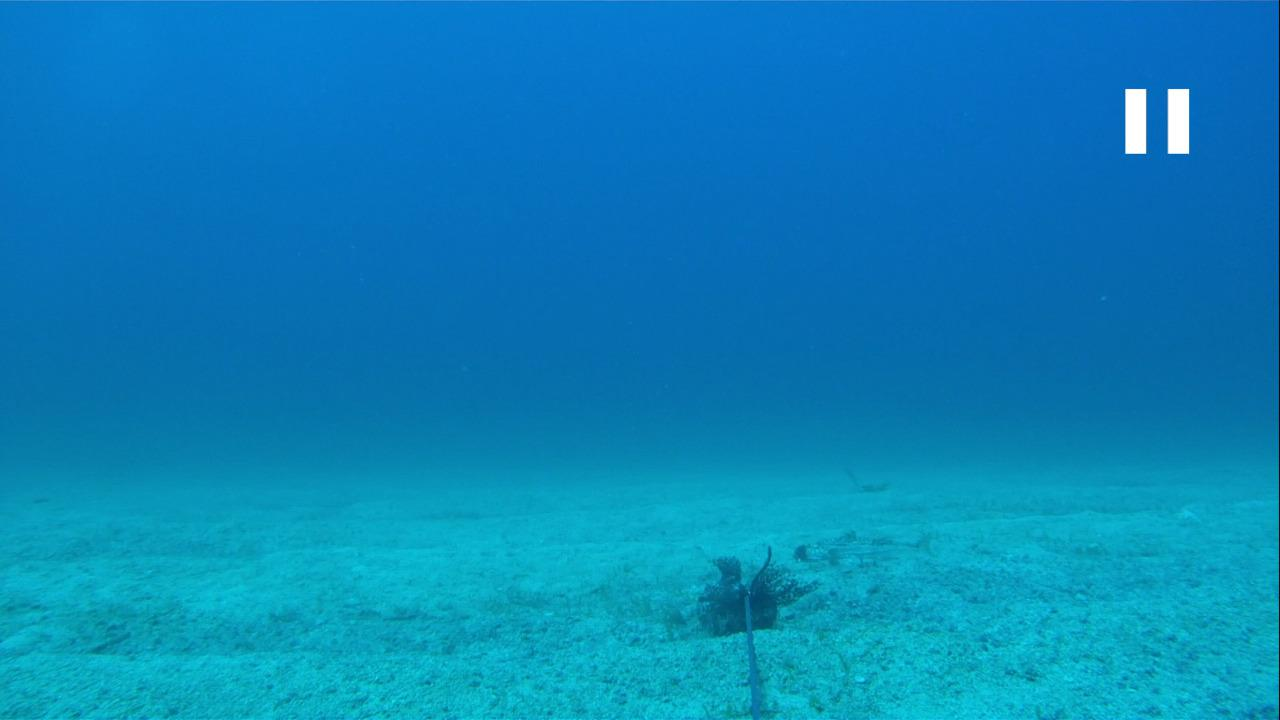dactylopterus: (789, 524, 943, 570)
